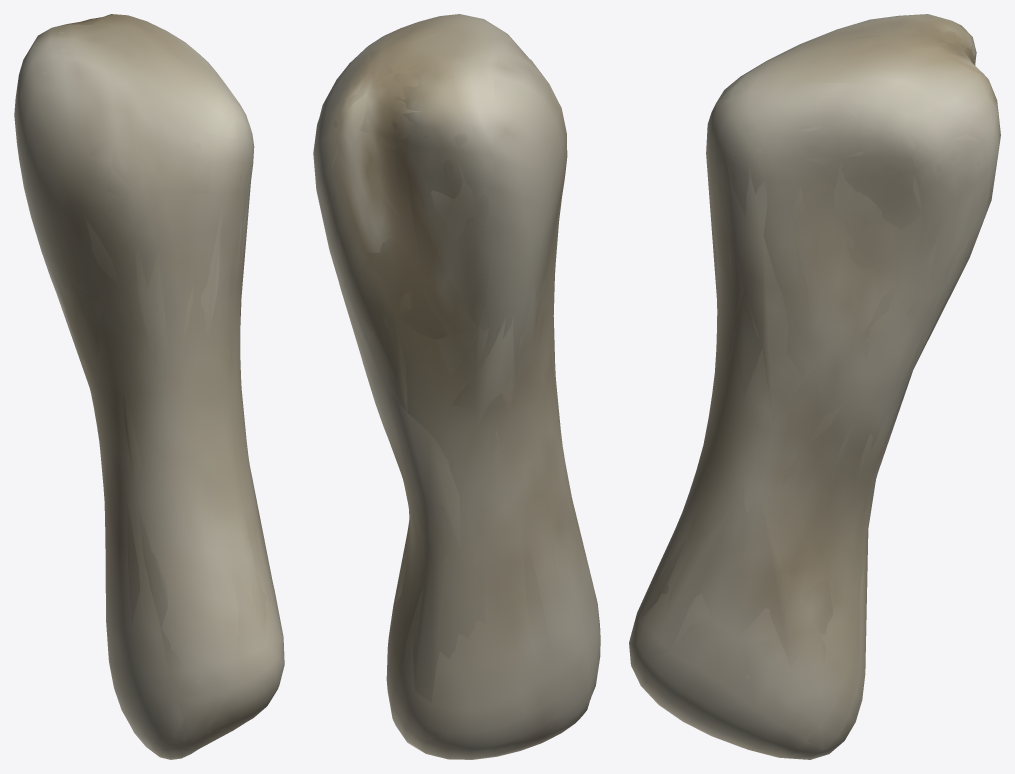
File: R calcaneus.fbx
3 renders of one model, left to right at view 1: azimuth 30°, elevation 25°; view 2: azimuth 150°, elevation 25°; view 3: azimuth 270°, elevation 25°, orthographic. The views are drawn at different scales.
Visible parts, largest first — view 1: R calcaneus, R calcaneus high, R calcaneus low; view 2: R calcaneus, R calcaneus low, R calcaneus high; view 3: R calcaneus, R calcaneus low, R calcaneus high.
Part boxes in pixels (left/top/right/bottom): R calcaneus: left=14, top=14, right=284, bottom=759; R calcaneus high: left=40, top=16, right=282, bottom=751; R calcaneus low: left=14, top=14, right=283, bottom=758; R calcaneus: left=313, top=14, right=600, bottom=759; R calcaneus low: left=314, top=30, right=596, bottom=758; R calcaneus high: left=315, top=23, right=599, bottom=752; R calcaneus: left=629, top=14, right=1000, bottom=759; R calcaneus low: left=635, top=15, right=1000, bottom=759; R calcaneus high: left=631, top=16, right=993, bottom=751.
Size of the model in its own units: 0.4766 by 1.71 by 0.8094.
1 material, 1 textured.
